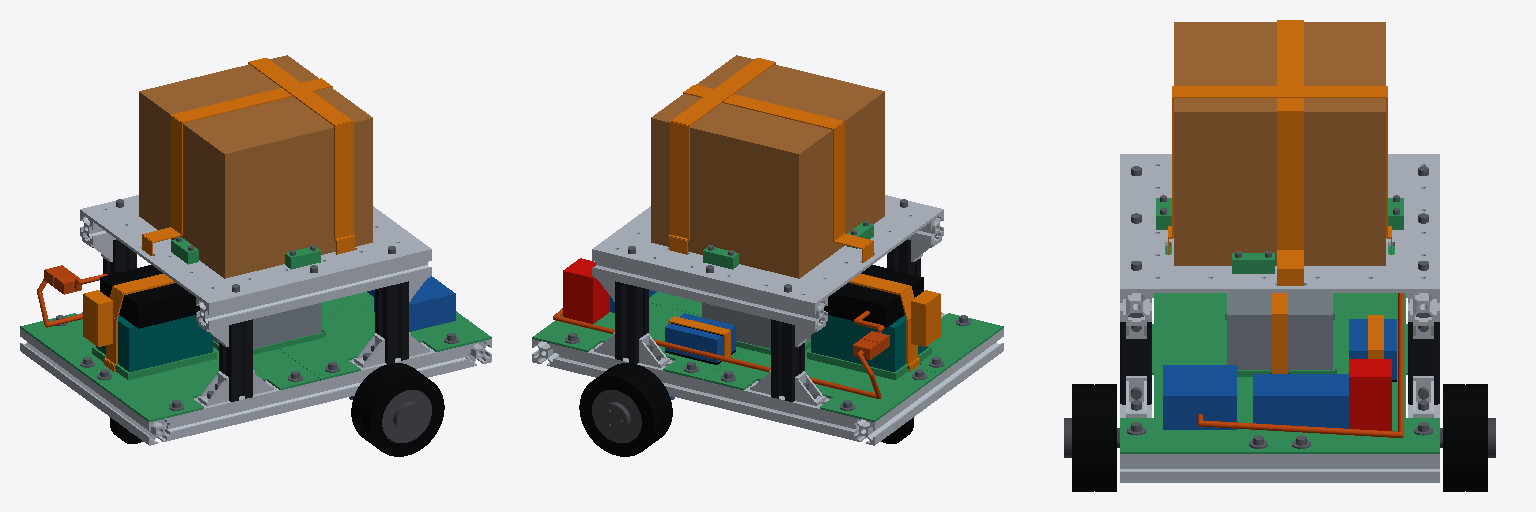
The robot description file, URDF, robot "amr_d63_payload_10kg":
<?xml version='1.0' encoding='utf-8'?>
<robot name="amr_d63_payload_10kg">
  <!--Generated from D6.3. SI units; +X forward, +Y left, +Z up. Inertias are estimates.-->
  <material name="aluminum">
    <color rgba="0.72 0.75 0.79 1" />
  </material>
  <material name="steel">
    <color rgba="0.38 0.4 0.43 1" />
  </material>
  <material name="pla">
    <color rgba="0.22 0.61 0.38 1" />
  </material>
  <material name="posts">
    <color rgba="0.12 0.13 0.15 1" />
  </material>
  <material name="mounts">
    <color rgba="0.15 0.43 0.69 1" />
  </material>
  <material name="motor">
    <color rgba="0.3 0.31 0.33 1" />
  </material>
  <material name="rubber">
    <color rgba="0.055 0.06 0.065 1" />
  </material>
  <material name="battery">
    <color rgba="0.02 0.4 0.4 1" />
  </material>
  <material name="computer">
    <color rgba="0.5 0.54 0.57 1" />
  </material>
  <material name="electronics">
    <color rgba="0.12 0.37 0.67 1" />
  </material>
  <material name="estop">
    <color rgba="0.85 0.08 0.06 1" />
  </material>
  <material name="belts">
    <color rgba="0.88 0.47 0.07 1" />
  </material>
  <material name="wires">
    <color rgba="0.76 0.3 0.08 1" />
  </material>
  <material name="payload">
    <color rgba="0.66 0.44 0.23 1" />
  </material>
  <link name="left_wheel_link">
    <inertial>
      <origin xyz="2.68715937167e-07 0.000842844210193 -1.43130870062e-06" rpy="0 0 0" />
      <mass value="0.45" />
      <inertia ixx="0.000337824360516" ixy="2.57511255333e-09" ixz="-2.83491628371e-11" iyy="0.000517319399072" iyz="-1.83797301139e-08" izz="0.000337817873043" />
    </inertial>
    <visual name="left_wheel_link_motor">
      <geometry>
        <mesh filename="meshes/left_wheel_link_motor.stl" scale="1 1 1" />
      </geometry>
      <material name="motor" />
    </visual>
    <visual name="left_wheel_link_rubber">
      <geometry>
        <mesh filename="meshes/left_wheel_link_rubber.stl" scale="1 1 1" />
      </geometry>
      <material name="rubber" />
    </visual>
    <collision name="left_wheel_link_rolling_contact">
      <origin xyz="0 0 0" rpy="1.57079632679 0 0" />
      <geometry>
        <cylinder radius="0.05035" length="0.043" />
      </geometry>
    </collision>
  </link>
  <link name="base_link">
    <inertial>
      <origin xyz="-0.093365971526 -0.000827260413554 0.0821086188541" rpy="0 0 0" />
      <mass value="8.9931237619" />
      <inertia ixx="0.123488080306" ixy="0.00168135991963" ixz="0.00517933522928" iyy="0.175478480204" iyz="0.000140465452182" izz="0.222563699909" />
    </inertial>
    <visual name="base_link_motor">
      <geometry>
        <mesh filename="meshes/base_link_motor.stl" scale="1 1 1" />
      </geometry>
      <material name="motor" />
    </visual>
    <visual name="base_link_steel">
      <geometry>
        <mesh filename="meshes/base_link_steel.stl" scale="1 1 1" />
      </geometry>
      <material name="steel" />
    </visual>
    <visual name="base_link_aluminum">
      <geometry>
        <mesh filename="meshes/base_link_aluminum.stl" scale="1 1 1" />
      </geometry>
      <material name="aluminum" />
    </visual>
    <visual name="base_link_mounts">
      <geometry>
        <mesh filename="meshes/base_link_mounts.stl" scale="1 1 1" />
      </geometry>
      <material name="mounts" />
    </visual>
    <visual name="base_link_pla">
      <geometry>
        <mesh filename="meshes/base_link_pla.stl" scale="1 1 1" />
      </geometry>
      <material name="pla" />
    </visual>
    <visual name="base_link_posts">
      <geometry>
        <mesh filename="meshes/base_link_posts.stl" scale="1 1 1" />
      </geometry>
      <material name="posts" />
    </visual>
    <visual name="base_link_electronics">
      <geometry>
        <mesh filename="meshes/base_link_electronics.stl" scale="1 1 1" />
      </geometry>
      <material name="electronics" />
    </visual>
    <visual name="base_link_estop">
      <geometry>
        <mesh filename="meshes/base_link_estop.stl" scale="1 1 1" />
      </geometry>
      <material name="estop" />
    </visual>
    <visual name="base_link_computer">
      <geometry>
        <mesh filename="meshes/base_link_computer.stl" scale="1 1 1" />
      </geometry>
      <material name="computer" />
    </visual>
    <visual name="base_link_battery">
      <geometry>
        <mesh filename="meshes/base_link_battery.stl" scale="1 1 1" />
      </geometry>
      <material name="battery" />
    </visual>
    <visual name="base_link_rubber">
      <geometry>
        <mesh filename="meshes/base_link_rubber.stl" scale="1 1 1" />
      </geometry>
      <material name="rubber" />
    </visual>
    <visual name="base_link_belts">
      <geometry>
        <mesh filename="meshes/base_link_belts.stl" scale="1 1 1" />
      </geometry>
      <material name="belts" />
    </visual>
    <visual name="base_link_wires">
      <geometry>
        <mesh filename="meshes/base_link_wires.stl" scale="1 1 1" />
      </geometry>
      <material name="wires" />
    </visual>
    <visual name="base_link_belts_loaded">
      <geometry>
        <mesh filename="meshes/base_link_belts_loaded.stl" scale="1 1 1" />
      </geometry>
      <material name="belts" />
    </visual>
    <collision name="base_link_Rail400_1">
      <origin xyz="-0.09 -0.135 0.03365" rpy="0 0 0" />
      <geometry>
        <box size="0.4 0.03 0.03" />
      </geometry>
    </collision>
    <collision name="base_link_Rail400_2">
      <origin xyz="-0.09 -0.065 0.03365" rpy="0 0 0" />
      <geometry>
        <box size="0.4 0.03 0.03" />
      </geometry>
    </collision>
    <collision name="base_link_Rail400_3">
      <origin xyz="-0.09 0.065 0.03365" rpy="0 0 0" />
      <geometry>
        <box size="0.4 0.03 0.03" />
      </geometry>
    </collision>
    <collision name="base_link_Rail400_4">
      <origin xyz="-0.09 0.135 0.03365" rpy="0 0 0" />
      <geometry>
        <box size="0.4 0.03 0.03" />
      </geometry>
    </collision>
    <collision name="base_link_Cross300_1">
      <origin xyz="-0.305 0 0.03365" rpy="0 0 0" />
      <geometry>
        <box size="0.03 0.3 0.03" />
      </geometry>
    </collision>
    <collision name="base_link_Cross300_2">
      <origin xyz="0.125 0 0.03365" rpy="0 0 0" />
      <geometry>
        <box size="0.03 0.3 0.03" />
      </geometry>
    </collision>
    <collision name="base_link_CustomMotorMountL">
      <origin xyz="0 0.135 0.00165" rpy="0 0 0" />
      <geometry>
        <box size="0.09 0.03 0.034" />
      </geometry>
    </collision>
    <collision name="base_link_CustomMotorMountR">
      <origin xyz="0 -0.135 0.00165" rpy="0 0 0" />
      <geometry>
        <box size="0.09 0.03 0.034" />
      </geometry>
    </collision>
    <collision name="base_link_CasterAdapter">
      <origin xyz="-0.24 0 0.01665" rpy="0 0 0" />
      <geometry>
        <box size="0.08 0.17 0.004" />
      </geometry>
    </collision>
    <collision name="base_link_CasterTop">
      <origin xyz="-0.24 0 0.0134" rpy="0 0 0" />
      <geometry>
        <box size="0.059 0.047 0.0025" />
      </geometry>
    </collision>
    <collision name="base_link_Reserved_Protection">
      <origin xyz="0.08 -0.075 0.07915" rpy="0 0 0" />
      <geometry>
        <box size="0.07 0.07 0.035" />
      </geometry>
    </collision>
    <collision name="base_link_Reserved_ClampAndPower">
      <origin xyz="0.09 0.02 0.07915" rpy="0 0 0" />
      <geometry>
        <box size="0.05 0.09 0.035" />
      </geometry>
    </collision>
    <collision name="base_link_Reserved_EmergencyStop">
      <origin xyz="0.105 0.085 0.09165" rpy="0 0 0" />
      <geometry>
        <box size="0.04 0.04 0.06" />
      </geometry>
    </collision>
    <collision name="base_link_Reserved_SupervisorRS485">
      <origin xyz="-0.05 0.0875 0.06865" rpy="0 0 0" />
      <geometry>
        <box size="0.07 0.045 0.03" />
      </geometry>
    </collision>
    <collision name="base_link_Reserved_Computer">
      <origin xyz="-0.09 0 0.08365" rpy="0 0 0" />
      <geometry>
        <box size="0.12 0.1 0.06" />
      </geometry>
    </collision>
    <collision name="base_link_AluminumDeckD3">
      <origin xyz="-0.09 0 0.18065" rpy="0 0 0" />
      <geometry>
        <box size="0.3 0.3 0.004" />
      </geometry>
    </collision>
    <collision name="base_link_PrintedStopXN">
      <origin xyz="-0.1995 -0.025 0.19015" rpy="0 0 0" />
      <geometry>
        <box size="0.015 0.04 0.015" />
      </geometry>
    </collision>
    <collision name="base_link_PrintedStopXP">
      <origin xyz="0.0195 -0.025 0.19015" rpy="0 0 0" />
      <geometry>
        <box size="0.015 0.04 0.015" />
      </geometry>
    </collision>
    <collision name="base_link_PrintedStopYN">
      <origin xyz="-0.09 -0.1095 0.19015" rpy="0 0 0" />
      <geometry>
        <box size="0.04 0.015 0.015" />
      </geometry>
    </collision>
    <collision name="base_link_PrintedStopYP">
      <origin xyz="-0.09 0.1095 0.19015" rpy="0 0 0" />
      <geometry>
        <box size="0.04 0.015 0.015" />
      </geometry>
    </collision>
    <collision name="base_link_Upright3030_0">
      <origin xyz="-0.195 -0.135 0.09865" rpy="0 0 0" />
      <geometry>
        <box size="0.03 0.03 0.1" />
      </geometry>
    </collision>
    <collision name="base_link_Upright3030_1">
      <origin xyz="-0.195 0.135 0.09865" rpy="0 0 0" />
      <geometry>
        <box size="0.03 0.03 0.1" />
      </geometry>
    </collision>
    <collision name="base_link_Upright3030_2">
      <origin xyz="0.015 -0.135 0.09865" rpy="0 0 0" />
      <geometry>
        <box size="0.03 0.03 0.1" />
      </geometry>
    </collision>
    <collision name="base_link_Upright3030_3">
      <origin xyz="0.015 0.135 0.09865" rpy="0 0 0" />
      <geometry>
        <box size="0.03 0.03 0.1" />
      </geometry>
    </collision>
    <collision name="base_link_UpperRail3030_0">
      <origin xyz="-0.09 -0.135 0.16365" rpy="0 0 0" />
      <geometry>
        <box size="0.3 0.03 0.03" />
      </geometry>
    </collision>
    <collision name="base_link_UpperRail3030_1">
      <origin xyz="-0.09 0.135 0.16365" rpy="0 0 0" />
      <geometry>
        <box size="0.3 0.03 0.03" />
      </geometry>
    </collision>
    <collision name="base_link_seam_beam_0">
      <origin xyz="-0.09 0 0.0449" rpy="0 0 0" />
      <geometry>
        <box size="0.064 0.1 0.0025" />
      </geometry>
    </collision>
    <collision name="base_link_seam_beam_1">
      <origin xyz="-0.09 -0.02925 0.0474" rpy="0 0 0" />
      <geometry>
        <box size="0.064 0.0415 0.0025" />
      </geometry>
    </collision>
    <collision name="base_link_seam_beam_2">
      <origin xyz="-0.09 0.02925 0.0474" rpy="0 0 0" />
      <geometry>
        <box size="0.064 0.0415 0.0025" />
      </geometry>
    </collision>
    <collision name="base_link_seam_beam_3">
      <origin xyz="-0.1204 0 0.03615" rpy="0 0 0" />
      <geometry>
        <box size="0.0032 0.1 0.015" />
      </geometry>
    </collision>
    <collision name="base_link_seam_beam_4">
      <origin xyz="-0.0596 0 0.03615" rpy="0 0 0" />
      <geometry>
        <box size="0.0032 0.1 0.015" />
      </geometry>
    </collision>
    <collision name="base_link_seam_beam_5">
      <origin xyz="-0.09 -0.0484 0.03365" rpy="0 0 0" />
      <geometry>
        <box size="0.064 0.0032 0.02" />
      </geometry>
    </collision>
    <collision name="base_link_seam_beam_6">
      <origin xyz="-0.09 0.0484 0.03365" rpy="0 0 0" />
      <geometry>
        <box size="0.064 0.0032 0.02" />
      </geometry>
    </collision>
    <collision name="base_link_FloorPLA_0_0">
      <origin xyz="-0.2051 -0.0751 0.04985" rpy="0 0 0" />
      <geometry>
        <box size="0.2298 0.1498 0.0024" />
      </geometry>
    </collision>
    <collision name="base_link_FloorPLA_0_0_rib">
      <origin xyz="-0.206 -0.0235 0.04115" rpy="0 0 0" />
      <geometry>
        <box size="0.168 0.0174 0.015" />
      </geometry>
    </collision>
    <collision name="base_link_FloorPLA_0_1">
      <origin xyz="-0.2051 0.0751 0.04985" rpy="0 0 0" />
      <geometry>
        <box size="0.2298 0.1498 0.0024" />
      </geometry>
    </collision>
    <collision name="base_link_FloorPLA_0_1_rib">
      <origin xyz="-0.206 0.0235 0.04115" rpy="0 0 0" />
      <geometry>
        <box size="0.168 0.0174 0.015" />
      </geometry>
    </collision>
    <collision name="base_link_FloorPLA_1_0">
      <origin xyz="0.0251 -0.0751 0.04985" rpy="0 0 0" />
      <geometry>
        <box size="0.2298 0.1498 0.0024" />
      </geometry>
    </collision>
    <collision name="base_link_FloorPLA_1_0_rib">
      <origin xyz="0.026 -0.0235 0.04115" rpy="0 0 0" />
      <geometry>
        <box size="0.168 0.0174 0.015" />
      </geometry>
    </collision>
    <collision name="base_link_FloorPLA_1_1">
      <origin xyz="0.0251 0.0751 0.04985" rpy="0 0 0" />
      <geometry>
        <box size="0.2298 0.1498 0.0024" />
      </geometry>
    </collision>
    <collision name="base_link_FloorPLA_1_1_rib">
      <origin xyz="0.026 0.0235 0.04115" rpy="0 0 0" />
      <geometry>
        <box size="0.168 0.0174 0.015" />
      </geometry>
    </collision>
    <collision name="base_link_BatteryBL1860B">
      <origin xyz="-0.2265 0 0.08465" rpy="0 0 0" />
      <geometry>
        <box size="0.113 0.075 0.062" />
      </geometry>
    </collision>
    <collision name="base_link_BatteryAdapter03">
      <origin xyz="-0.2265 0 0.13065" rpy="0 0 0" />
      <geometry>
        <box size="0.095 0.09 0.03" />
      </geometry>
    </collision>
    <collision name="base_link_BatteryBuckleEnvelope">
      <origin xyz="-0.302 0 0.11715" rpy="0 0 0" />
      <geometry>
        <box size="0.02 0.035 0.055" />
      </geometry>
    </collision>
  </link>
  <link name="right_wheel_link">
    <inertial>
      <origin xyz="-2.68715937167e-07 -0.000842844210193 -1.43130870061e-06" rpy="0 0 0" />
      <mass value="0.45" />
      <inertia ixx="0.000337824360516" ixy="2.57511255324e-09" ixz="2.83491629754e-11" iyy="0.000517319399072" iyz="1.83797301136e-08" izz="0.000337817873043" />
    </inertial>
    <visual name="right_wheel_link_motor">
      <geometry>
        <mesh filename="meshes/right_wheel_link_motor.stl" scale="1 1 1" />
      </geometry>
      <material name="motor" />
    </visual>
    <visual name="right_wheel_link_rubber">
      <geometry>
        <mesh filename="meshes/right_wheel_link_rubber.stl" scale="1 1 1" />
      </geometry>
      <material name="rubber" />
    </visual>
    <collision name="right_wheel_link_rolling_contact">
      <origin xyz="0 0 0" rpy="1.57079632679 0 0" />
      <geometry>
        <cylinder radius="0.05035" length="0.043" />
      </geometry>
    </collision>
  </link>
  <link name="caster_swivel_link">
    <inertial>
      <origin xyz="-0.00208368833284 3.45547710101e-19 -0.0060383207606" rpy="0 0 0" />
      <mass value="0.0887160418696" />
      <inertia ixx="2.00832544816e-05" ixy="4.85850705141e-22" ixz="-4.29660604946e-06" iyy="1.90849352283e-05" iyz="-2.53397249247e-22" izz="1.76394659271e-05" />
    </inertial>
    <visual name="caster_swivel_link_steel">
      <geometry>
        <mesh filename="meshes/caster_swivel_link_steel.stl" scale="1 1 1" />
      </geometry>
      <material name="steel" />
    </visual>
    <collision name="caster_swivel_link_swivel_race">
      <origin xyz="0 0 0" rpy="0 0 0" />
      <geometry>
        <cylinder radius="0.019" length="0.009" />
      </geometry>
    </collision>
    <collision name="caster_swivel_link_fork_0">
      <origin xyz="-0.003 -0.0125 -0.01875" rpy="0 0 0" />
      <geometry>
        <box size="0.036 0.003 0.0285" />
      </geometry>
    </collision>
    <collision name="caster_swivel_link_fork_1">
      <origin xyz="-0.003 0.0125 -0.01875" rpy="0 0 0" />
      <geometry>
        <box size="0.036 0.003 0.0285" />
      </geometry>
    </collision>
    <collision name="caster_swivel_link_fork_2">
      <origin xyz="-0.016 0 -0.033" rpy="0 0 0" />
      <geometry>
        <box size="0.006 0.032 0.006" />
      </geometry>
    </collision>
  </link>
  <link name="caster_wheel_link">
    <inertial>
      <origin xyz="2.84217094304e-17 2.29472925463e-19 0" rpy="0 0 0" />
      <mass value="0.035507350075" />
      <inertia ixx="6.57068391835e-06" ixy="2.3584551378e-23" ixz="-1.75899594661e-20" iyy="1.0774211165e-05" iyz="-2.27653595497e-22" izz="6.57068391835e-06" />
    </inertial>
    <visual name="caster_wheel_link_rubber">
      <geometry>
        <mesh filename="meshes/caster_wheel_link_rubber.stl" scale="1 1 1" />
      </geometry>
      <material name="rubber" />
    </visual>
    <visual name="caster_wheel_link_steel">
      <geometry>
        <mesh filename="meshes/caster_wheel_link_steel.stl" scale="1 1 1" />
      </geometry>
      <material name="steel" />
    </visual>
    <collision name="caster_wheel_link_rolling_contact">
      <origin xyz="0 0 0" rpy="1.57079632679 0 0" />
      <geometry>
        <cylinder radius="0.025" length="0.02" />
      </geometry>
    </collision>
  </link>
  <link name="payload_link">
    <inertial>
      <origin xyz="-5.30457172566e-19 -7.01068832617e-19 5.68434188608e-17" rpy="0 0 0" />
      <mass value="10" />
      <inertia ixx="0.0546666666667" ixy="-5.62054261308e-20" ixz="1.6452128394e-18" iyy="0.0546666666667" iyz="1.71989237667e-18" izz="0.0666666666667" />
    </inertial>
    <visual name="example_cargo">
      <geometry>
        <box size="0.2 0.2 0.16" />
      </geometry>
      <material name="payload" />
    </visual>
    <collision name="payload_link_cargo_box">
      <origin xyz="0 0 0" rpy="0 0 0" />
      <geometry>
        <box size="0.2 0.2 0.16" />
      </geometry>
    </collision>
  </link>
  <joint name="left_wheel_joint" type="continuous">
    <parent link="base_link" />
    <child link="left_wheel_link" />
    <origin xyz="0 0.1745 0" rpy="0 0 0" />
    <axis xyz="0 1 0" />
    <limit effort="0.96" velocity="12.0427718388" />
    <dynamics damping="0" friction="0" />
  </joint>
  <joint name="right_wheel_joint" type="continuous">
    <parent link="base_link" />
    <child link="right_wheel_link" />
    <origin xyz="0 -0.1745 0" rpy="0 0 0" />
    <axis xyz="0 1 0" />
    <limit effort="0.96" velocity="12.0427718388" />
    <dynamics damping="0" friction="0" />
  </joint>
  <joint name="caster_swivel_joint" type="continuous">
    <parent link="base_link" />
    <child link="caster_swivel_link" />
    <origin xyz="-0.24 0 0.00765" rpy="0 0 0" />
    <axis xyz="0 0 1" />
    <limit effort="0" velocity="30" />
    <dynamics damping="0" friction="0" />
  </joint>
  <joint name="caster_wheel_joint" type="continuous">
    <parent link="caster_swivel_link" />
    <child link="caster_wheel_link" />
    <origin xyz="-0.016 0 -0.033" rpy="0 0 0" />
    <axis xyz="0 1 0" />
    <limit effort="0" velocity="30" />
    <dynamics damping="0" friction="0" />
  </joint>
  <joint name="payload_fixed_joint" type="fixed">
    <parent link="base_link" />
    <child link="payload_link" />
    <origin xyz="-0.09 0 0.26265" rpy="0 0 0" />
  </joint>
</robot>

--- Render facts (derived) ---
3 views of the same robot in one strip: view 1: azimuth 30°, elevation 25°; view 2: azimuth 150°, elevation 25°; view 3: azimuth 270°, elevation 25° (orthographic).
Robot: amr_d63_payload_10kg — 6 links, 5 joints (4 continuous, 1 fixed); root link base_link; default pose: all joints at 0.
Visible links, largest first — view 1: base_link, payload_link, right_wheel_link; view 2: base_link, payload_link, left_wheel_link; view 3: base_link, payload_link, left_wheel_link, right_wheel_link.
Boxes of the visible links, <box> form: base_link: <box>20,58,491,445</box>; payload_link: <box>139,55,372,278</box>; right_wheel_link: <box>351,363,444,456</box>; base_link: <box>532,58,1003,445</box>; payload_link: <box>651,55,884,278</box>; left_wheel_link: <box>579,363,672,456</box>; base_link: <box>1117,20,1442,482</box>; payload_link: <box>1174,22,1385,265</box>; left_wheel_link: <box>1443,384,1495,491</box>; right_wheel_link: <box>1064,384,1116,491</box>.
Bounding box of the posed robot: 0.46 × 0.4066 × 0.396 m (x, y, z).
Meshes: 21 distinct files referenced, 21 mesh visuals loaded (21 binary STL).
